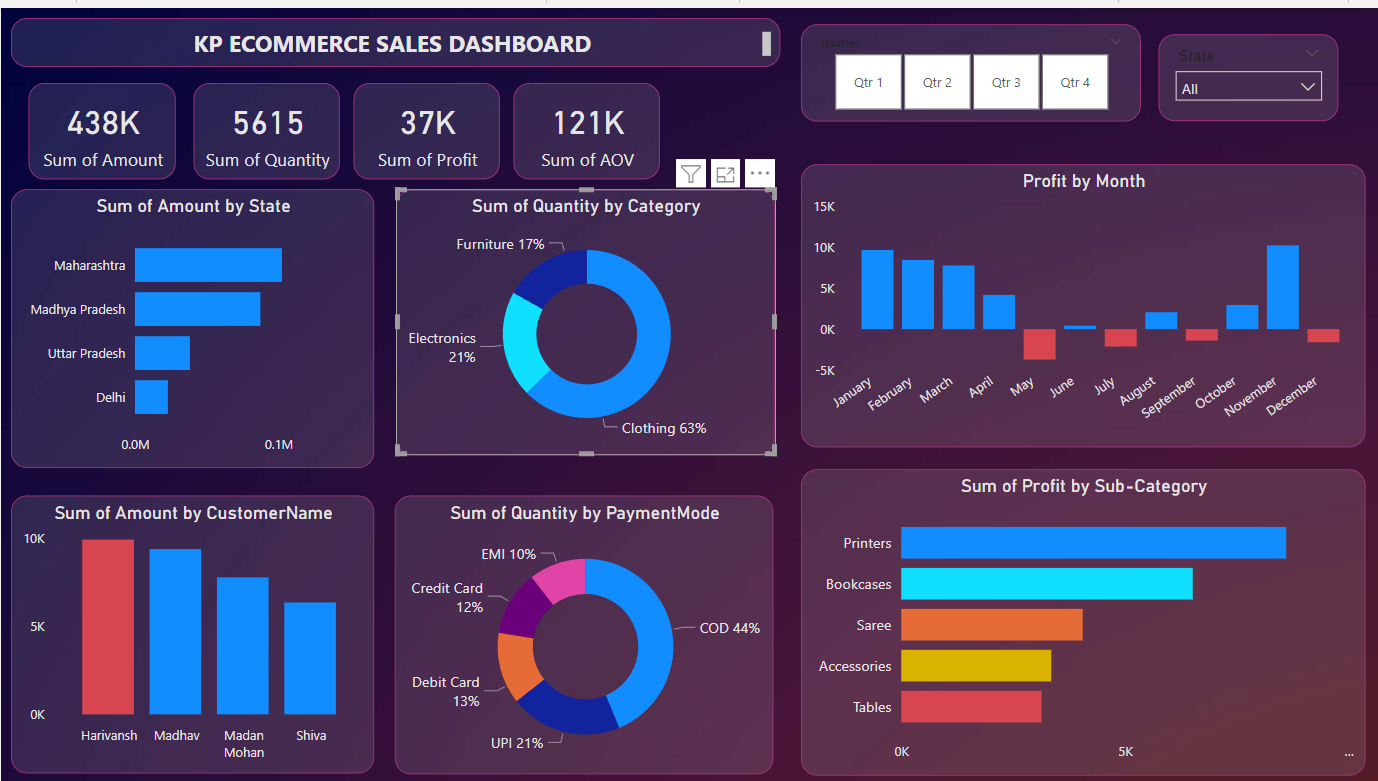

The dashboard page shown, as its layout file describes it:
{"tool":"powerbi","page":{"name":"Page 1","canvas":[1280,720],"ordinal":0},"visuals":[{"type":"textbox","box":[9.5,9.5,715.2,45.2],"z":0},{"type":"columnChart","title":" Profit by Month","fields":{"Y":["Details.Profit"],"Category":["Orders.Order Date.Variation.Date Hierarchy.Month"]},"box":[743.8,145.2,524.8,263],"z":1000},{"type":"barChart","fields":{"Category":["Details.Sub-Category"],"Y":["Details.Profit"]},"box":[743.8,428.4,524.8,284.4],"z":2000},{"type":"donutChart","fields":{"Category":["Details.Category"],"Y":["Details.Quantity"]},"box":[367.7,169,352.3,247.5],"z":3000},{"type":"donutChart","fields":{"Y":["Details.Quantity"],"Category":["Details.PaymentMode"]},"box":[366.5,453.4,352.3,259.4],"z":4000},{"type":"card","fields":{"Values":["Details.Amount"]},"box":[25,70.2,136.9,89.3],"z":5000},{"type":"card","fields":{"Values":["Details.Quantity"]},"box":[178.5,70.2,135.7,89.3],"z":6000},{"type":"card","fields":{"Values":["Details.Profit"]},"box":[327.3,70.2,135.7,89.3],"z":7000},{"type":"card","fields":{"Values":["Details.AOV"]},"box":[476,70.2,135.7,89.3],"z":8000},{"type":"barChart","fields":{"Y":["Details.Amount"],"Category":["Orders.State"]},"box":[9.5,169,338,259.4],"z":9000},{"type":"columnChart","fields":{"Category":["Orders.CustomerName"],"Y":["Details.Amount"]},"box":[9.5,453.4,338,258.2],"z":10000},{"type":"slicer","fields":{"Values":["Orders.Order Date.Variation.Date Hierarchy.Quarter"]},"box":[743.7,15.1,315.6,90.6],"z":11000},{"type":"slicer","fields":{"Values":["Orders.State"]},"box":[1075.8,24.7,167.4,81],"z":12000}]}

Visuals, with their boxes in screenshot pixels (x1, y1, x2, y2), scaled from the page's 1280x720 canvas onto the 1378x781 screenshot:
textbox: x1=10, y1=10, x2=780, y2=59
" Profit by Month" columnChart: x1=801, y1=158, x2=1366, y2=443
barChart - Details.Sub-Category x Details.Profit: x1=801, y1=465, x2=1366, y2=773
donutChart - Details.Category x Details.Quantity: x1=396, y1=183, x2=775, y2=452
donutChart - Details.Quantity x Details.PaymentMode: x1=395, y1=492, x2=774, y2=773
card - Details.Amount: x1=27, y1=76, x2=174, y2=173
card - Details.Quantity: x1=192, y1=76, x2=338, y2=173
card - Details.Profit: x1=352, y1=76, x2=498, y2=173
card - Details.AOV: x1=512, y1=76, x2=659, y2=173
barChart - Details.Amount x Orders.State: x1=10, y1=183, x2=374, y2=465
columnChart - Orders.CustomerName x Details.Amount: x1=10, y1=492, x2=374, y2=772
slicer - Orders.Order Date.Variation.Date Hierarchy.Quarter: x1=801, y1=16, x2=1140, y2=115
slicer - Orders.State: x1=1158, y1=27, x2=1338, y2=115
